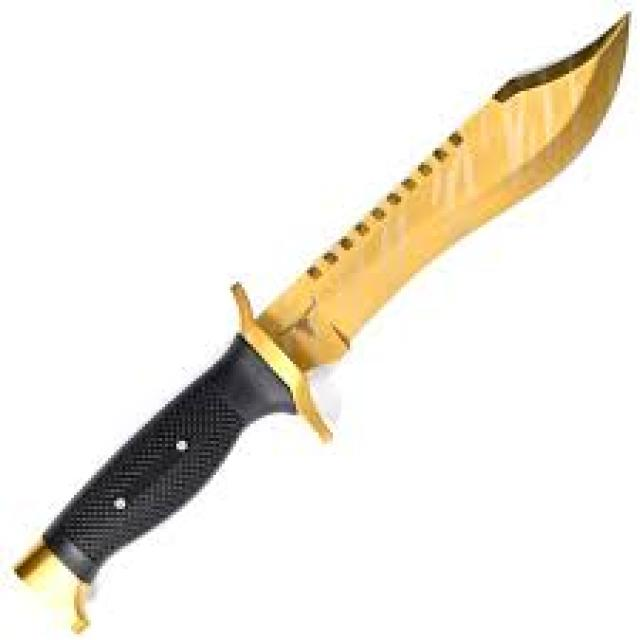knife: (1, 3, 640, 640)
